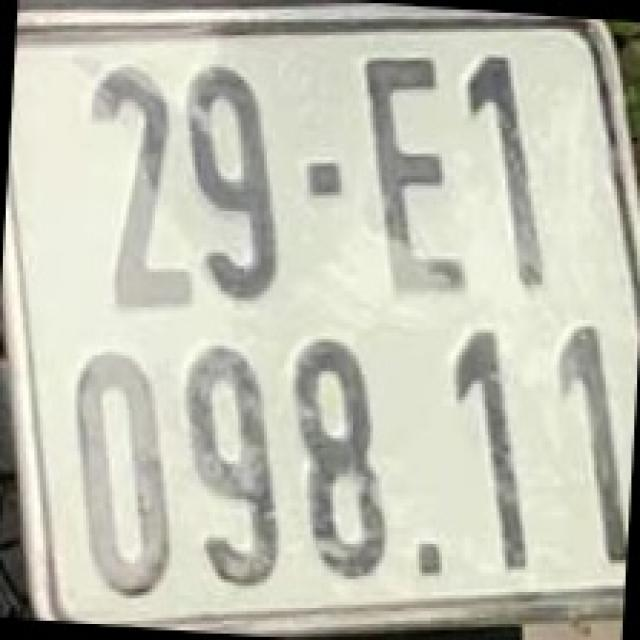0: (69, 342, 175, 602)
1: (442, 323, 542, 579), (462, 45, 557, 292), (548, 320, 634, 570)
2: (80, 54, 198, 317)
8: (293, 330, 393, 582)
9: (180, 339, 284, 589), (184, 61, 288, 304)
E: (356, 45, 474, 301)
